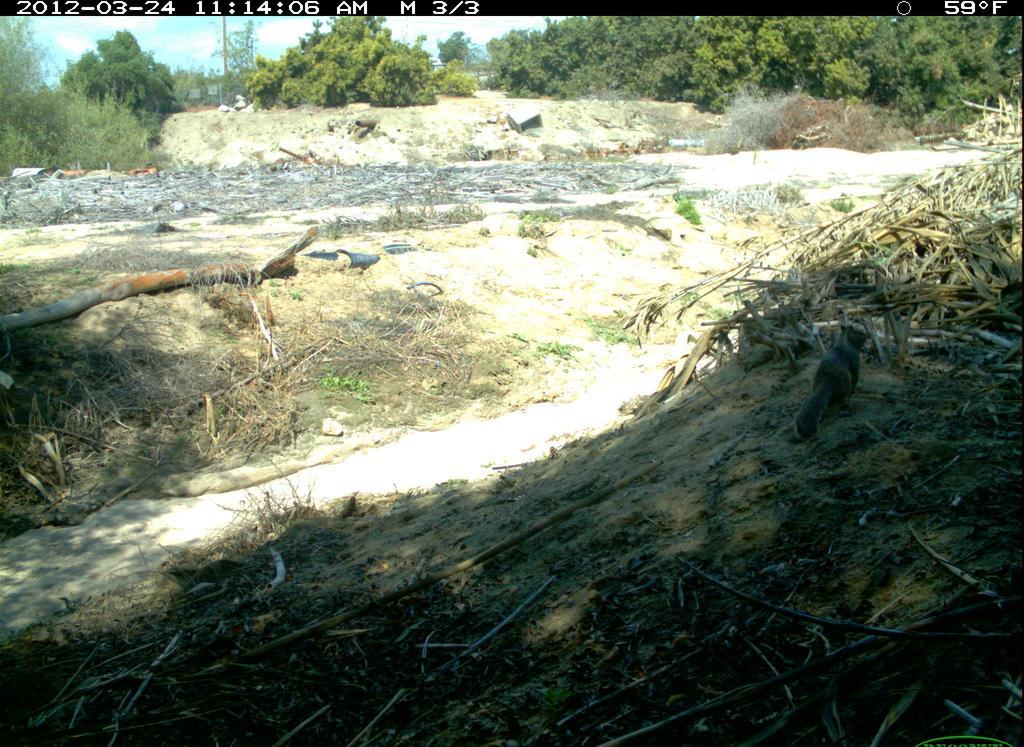squirrel: (780, 309, 898, 463)
